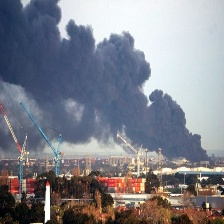smoke: (1, 1, 211, 162)
